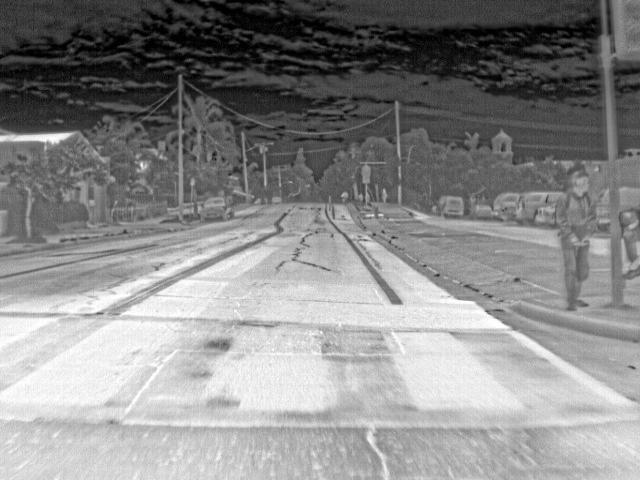car: (515, 189, 555, 227), (201, 195, 234, 222), (594, 188, 610, 234), (496, 191, 519, 222), (438, 193, 465, 218), (534, 204, 555, 229), (618, 186, 639, 210), (471, 202, 497, 220), (270, 196, 283, 205)
person: (556, 168, 596, 312), (617, 210, 636, 285), (380, 184, 390, 204)
